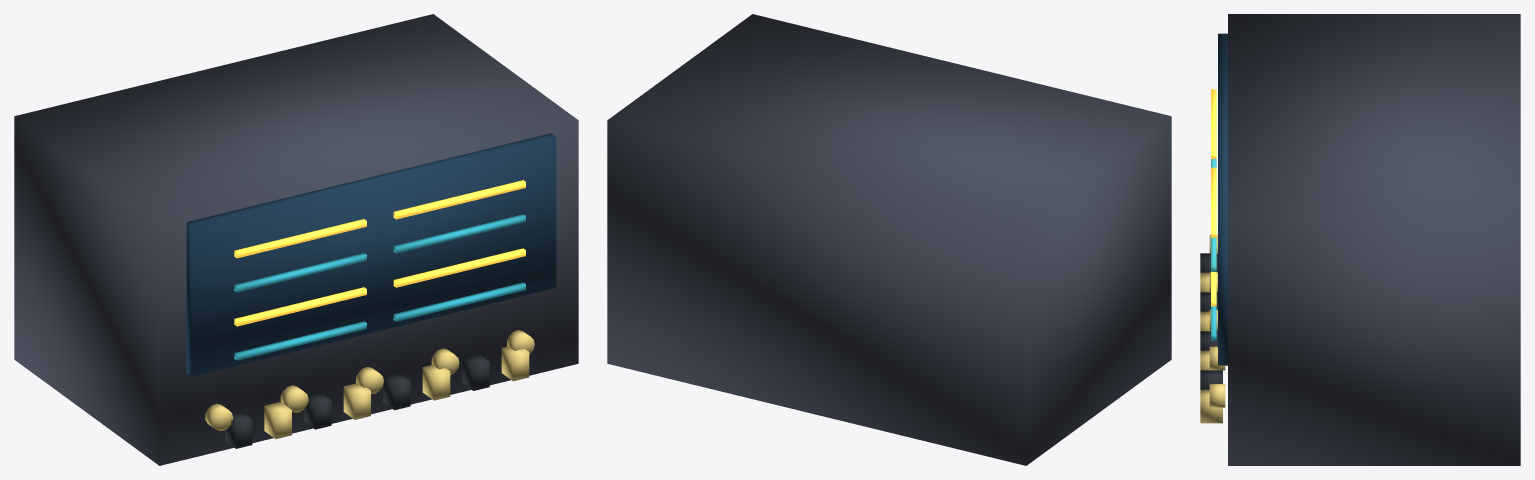
The model's file is 17_L95_DigitalLogicAnalyzer.fbx.
The picture shows the model from 3 angles, left to right: view 1: azimuth 30°, elevation 25°; view 2: azimuth 150°, elevation 25°; view 3: azimuth 270°, elevation 25°; orthographic projection.
Visible parts, largest first — view 1: L95_DigitalLogicAnalyzer, L95_DigitalLogicAnalyzer_Part_0004; view 2: L95_DigitalLogicAnalyzer; view 3: L95_DigitalLogicAnalyzer, L95_DigitalLogicAnalyzer_Part_0004.
Boxes of the visible parts, x1,y1,x2,y2 form: L95_DigitalLogicAnalyzer: [14, 14, 578, 465]; L95_DigitalLogicAnalyzer_Part_0004: [205, 330, 534, 431]; L95_DigitalLogicAnalyzer: [607, 14, 1171, 465]; L95_DigitalLogicAnalyzer: [1200, 14, 1520, 465]; L95_DigitalLogicAnalyzer_Part_0004: [1209, 235, 1225, 407].
Size of the model in its own units: 0.9 by 0.5 by 0.591.
